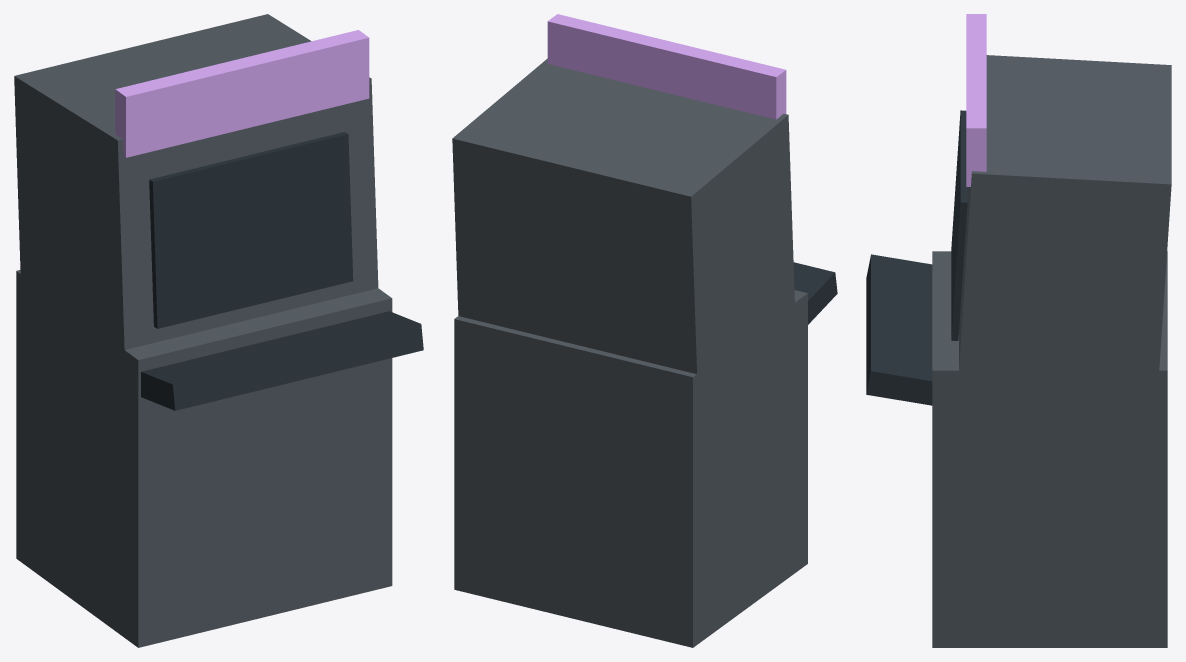
File: arcade-cabinet-lod2.glb
3 views of the same model, side by side, from view 1: azimuth 30°, elevation 25°; view 2: azimuth 150°, elevation 25°; view 3: azimuth 270°, elevation 25° (orthographic). The views are drawn at different scales.
Visible parts, largest first — view 1: lower_cabinet, upper_cabinet, screen, marquee, control_panel; view 2: lower_cabinet, upper_cabinet, marquee, control_panel; view 3: lower_cabinet, upper_cabinet, control_panel, marquee, screen.
Boxes of the visible parts, <box> form: lower_cabinet: <box>16,270,392,647</box>; upper_cabinet: <box>14,14,378,366</box>; screen: <box>149,132,353,328</box>; marquee: <box>115,30,369,157</box>; control_panel: <box>141,311,423,410</box>; lower_cabinet: <box>454,290,807,647</box>; upper_cabinet: <box>452,58,795,399</box>; marquee: <box>547,14,786,119</box>; control_panel: <box>793,262,837,324</box>; lower_cabinet: <box>932,251,1167,647</box>; upper_cabinet: <box>958,55,1171,396</box>; control_panel: <box>866,254,932,405</box>; marquee: <box>966,14,986,186</box>; screen: <box>951,110,967,340</box>.
Bounding box in the file's own units: 4.8 × 9.7 × 5.19.
